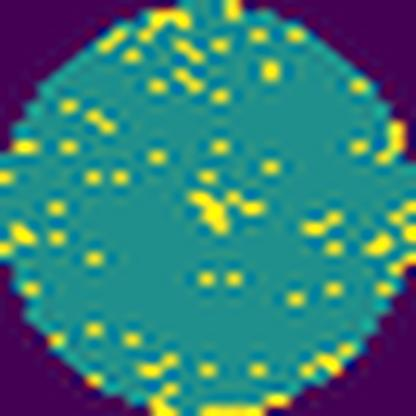Center: (182, 182, 270, 238)
